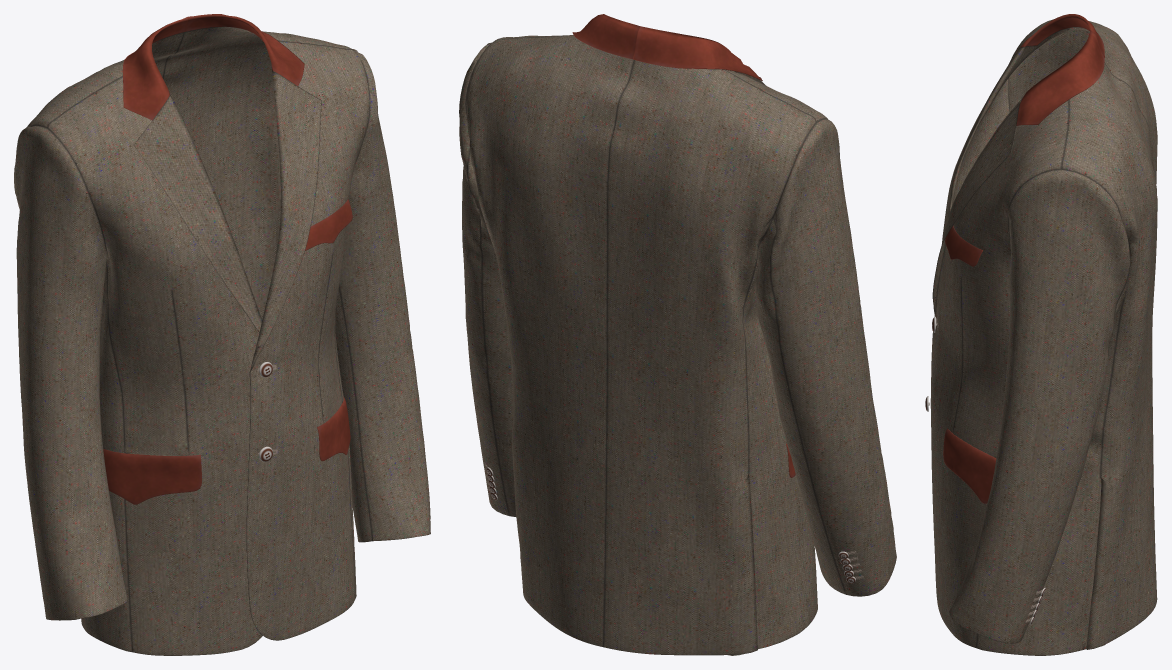
The model's file is jacket.obj.
3 views of the same model, side by side, from view 1: azimuth 30°, elevation 25°; view 2: azimuth 150°, elevation 25°; view 3: azimuth 270°, elevation 25° (orthographic). The views are drawn at different scales.
Parts seen in each view (by area): view 1: Object; view 2: Object; view 3: Object.
Boxes of the visible parts, box(x1,y1,x2,y2) form: Object: box(14, 14, 430, 655); Object: box(459, 14, 896, 655); Object: box(925, 14, 1157, 655).
Size of the model in its own units: 0.546 by 0.7868 by 0.2915.
1 material, 1 textured.
